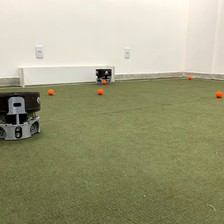ball: (214, 89, 224, 99), (44, 86, 54, 96), (96, 86, 105, 96), (185, 73, 192, 80), (100, 77, 107, 84)
goal: (16, 61, 117, 87)
robot: (1, 88, 42, 143), (92, 65, 112, 83)
